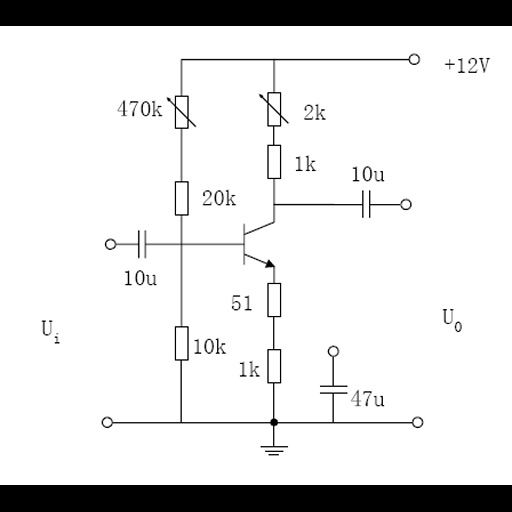capacitor: (355, 184, 379, 222), (132, 226, 152, 261), (315, 380, 349, 399)
firstresistance: (261, 139, 284, 186), (169, 177, 193, 220), (169, 318, 190, 366), (264, 280, 287, 322), (264, 346, 285, 389)
gnd: (255, 441, 297, 459)
npn: (233, 221, 281, 272)
